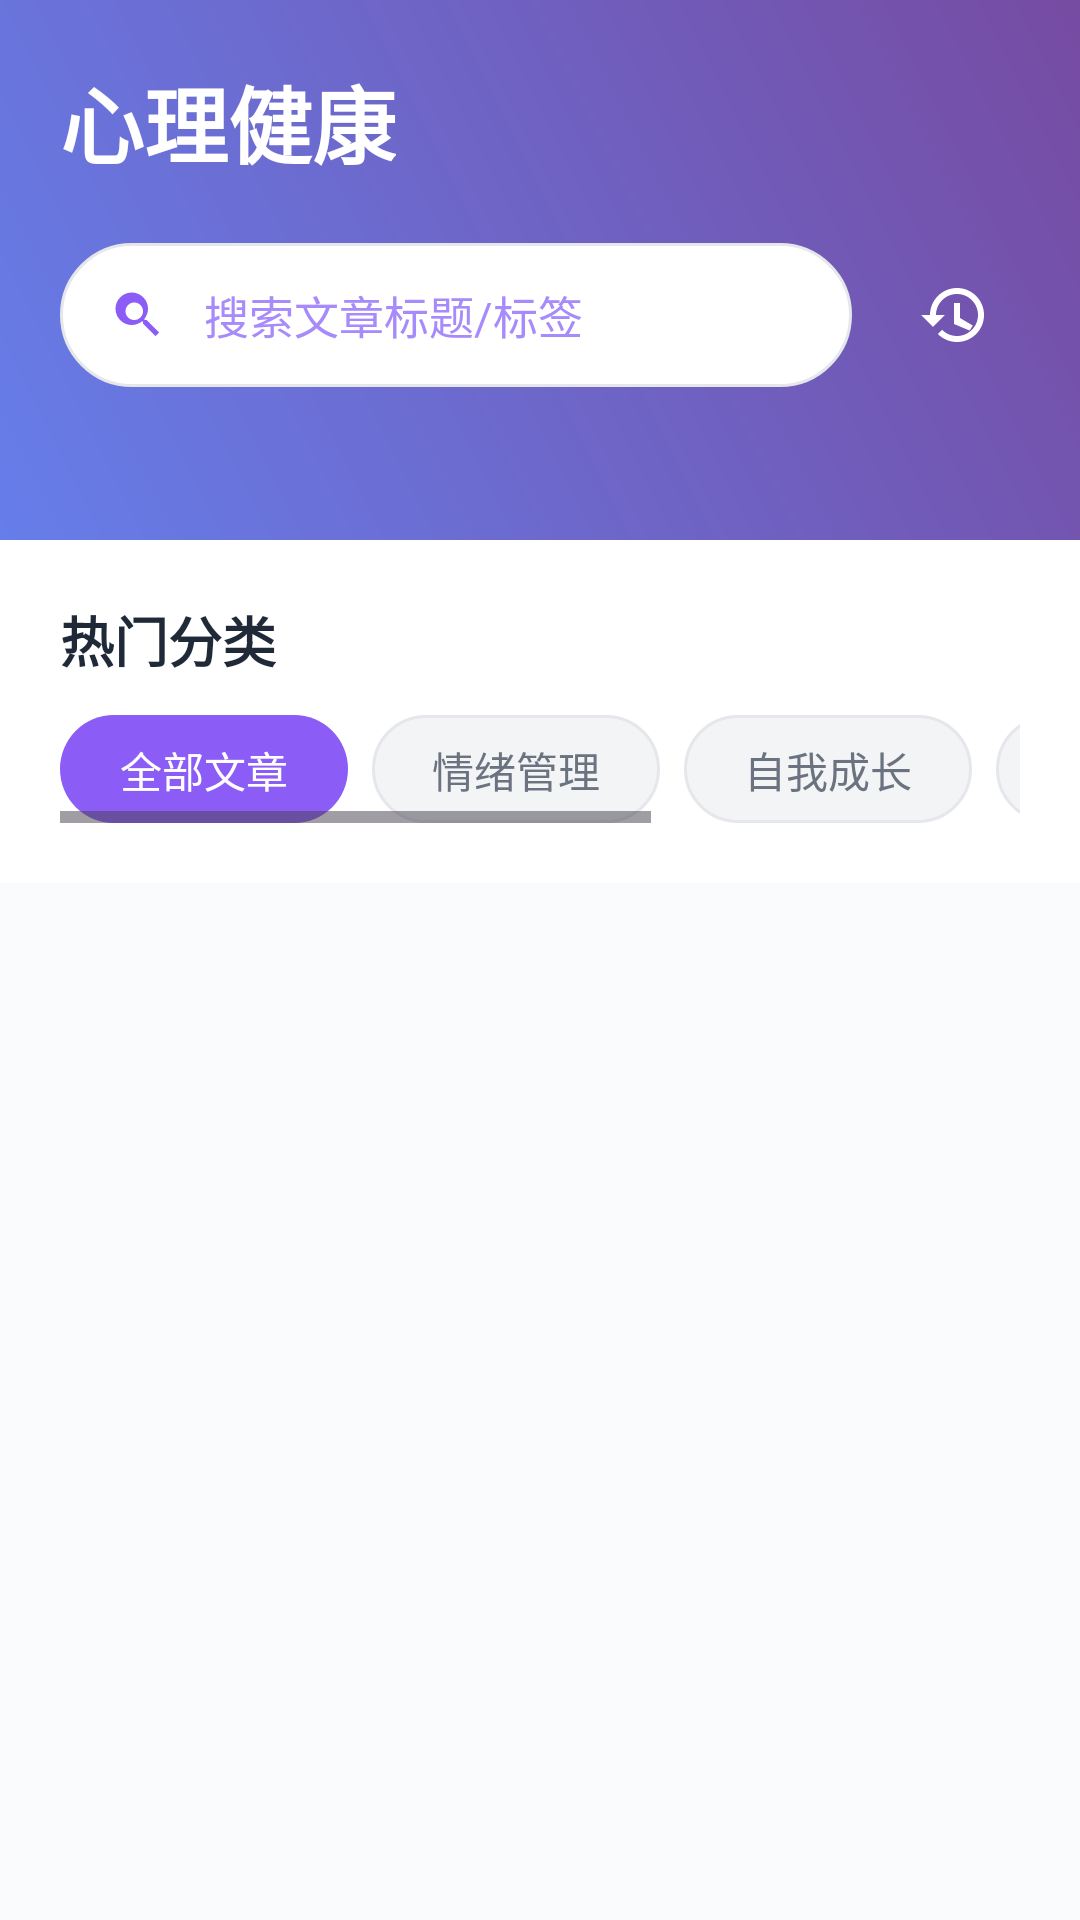

Screen size 1080px×1920px. Icon name, then its box in pixels as (x1, y1, x2, y2):
search: (115, 292, 159, 336)
阅读历史: (921, 288, 984, 342)
